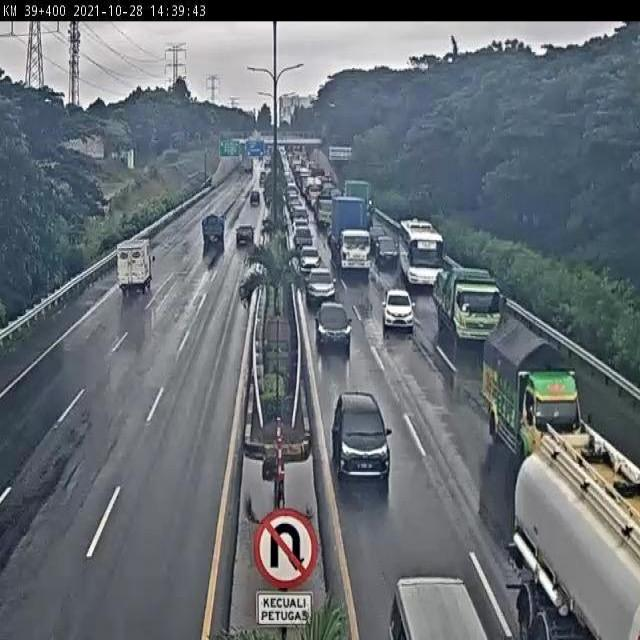big bus: (398, 219, 444, 288)
big truck: (332, 196, 373, 277)
car: (329, 391, 394, 484), (313, 300, 352, 348), (380, 288, 415, 332), (304, 260, 332, 299), (375, 237, 398, 267), (297, 236, 320, 263), (233, 224, 255, 251)
mid truck: (430, 263, 506, 345)
small truck: (115, 240, 152, 289), (199, 212, 224, 244)
truck-m-: (483, 311, 588, 468)
